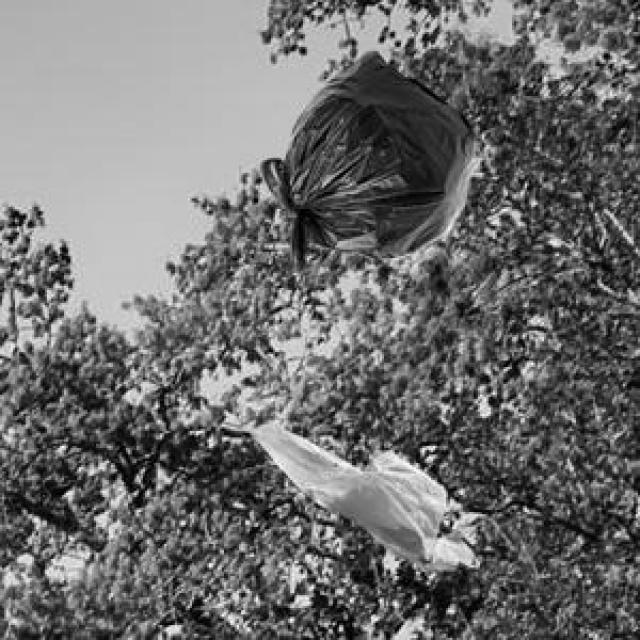miscellaneous trash: (256, 47, 472, 269)
